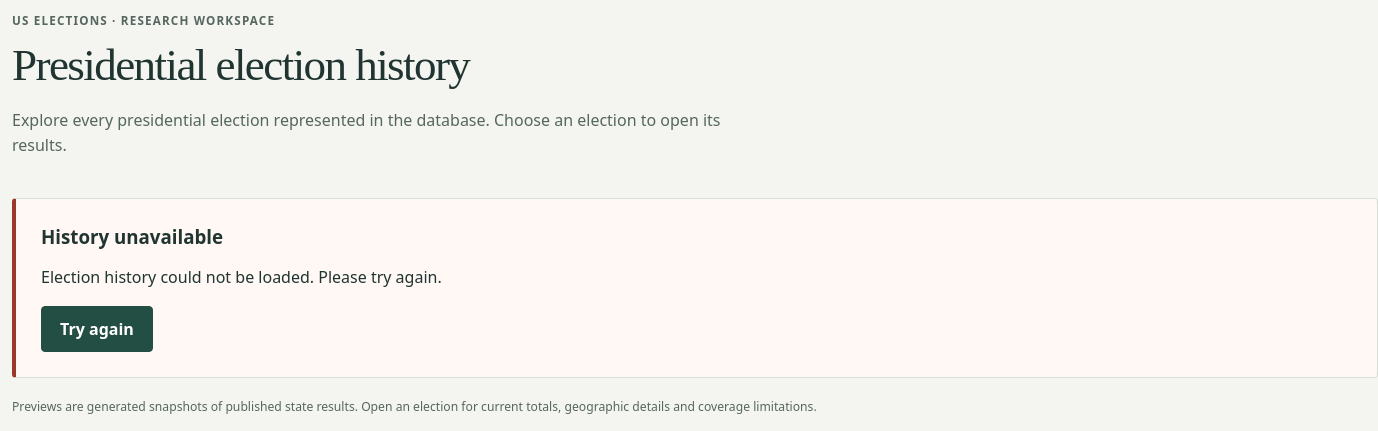
Test case: site header and presidential archive › offers retry for failed discovery and an explicit empty state
The width and height of the screenshot is (1378, 431).
Expected: the heading "History unavailable" is shown, [41, 224, 223, 248]
Click the button "Try again". click: {"x": 97, "y": 329}
box: [41, 306, 153, 352]
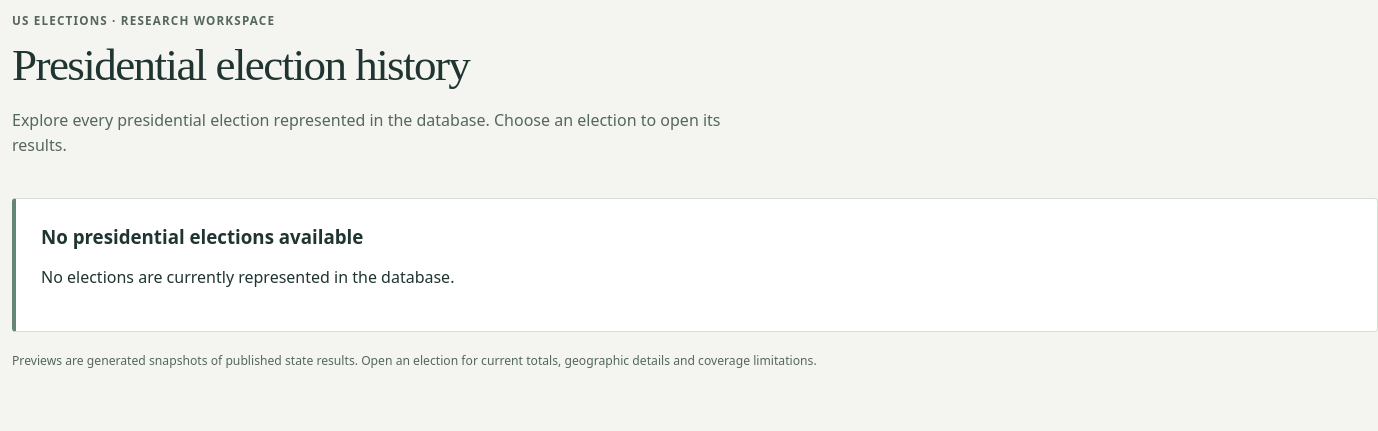
Expected: the heading "No presidential elections available" is shown, [41, 224, 363, 248]
